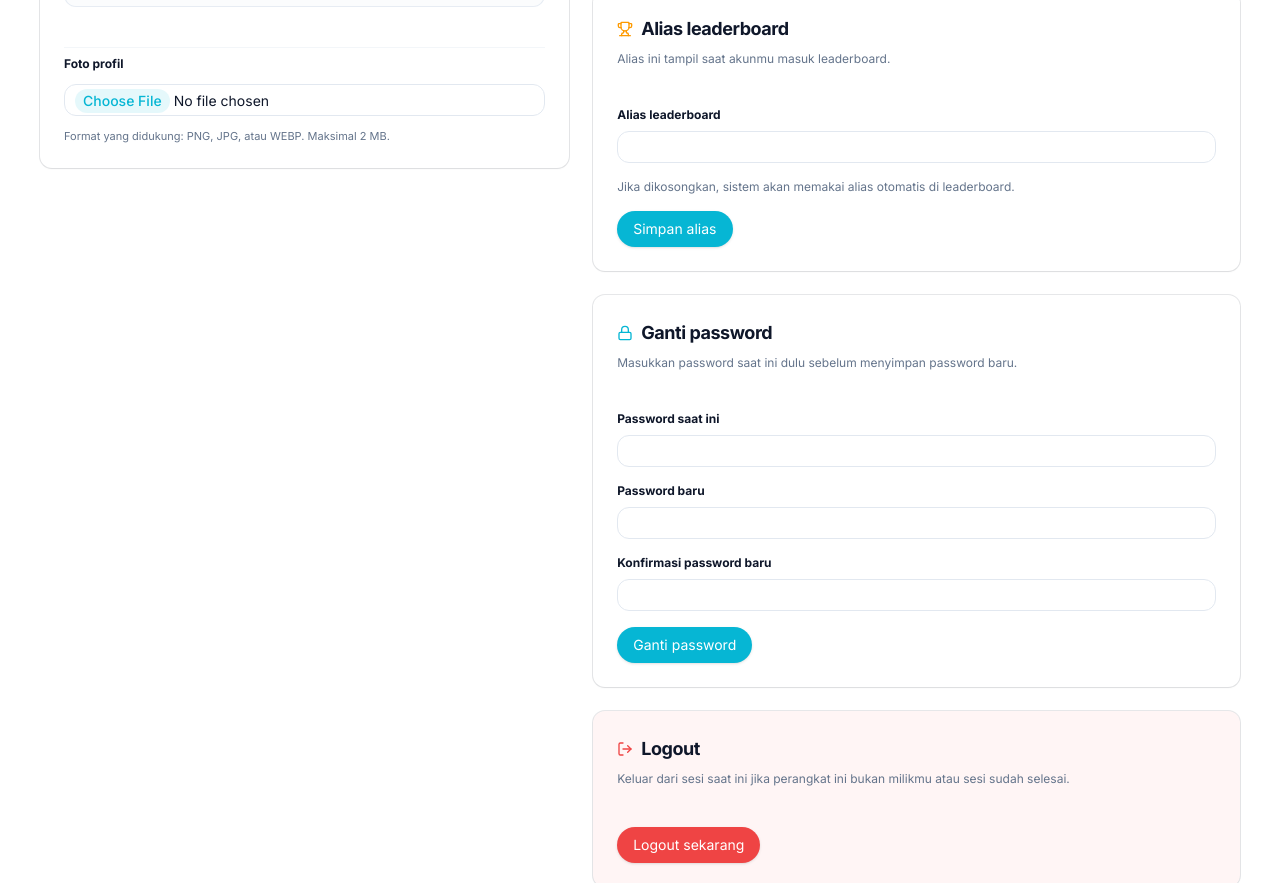
Scenario: ProfilePage › submits a valid password change with TestSprite-visible success copy
The width and height of the screenshot is (1280, 883).
(page scrolled)
Step 1. Type "password-lama" into the password field labelled "Password saat ini" → (917,451), box x1=617 y1=435 x2=1216 y2=467
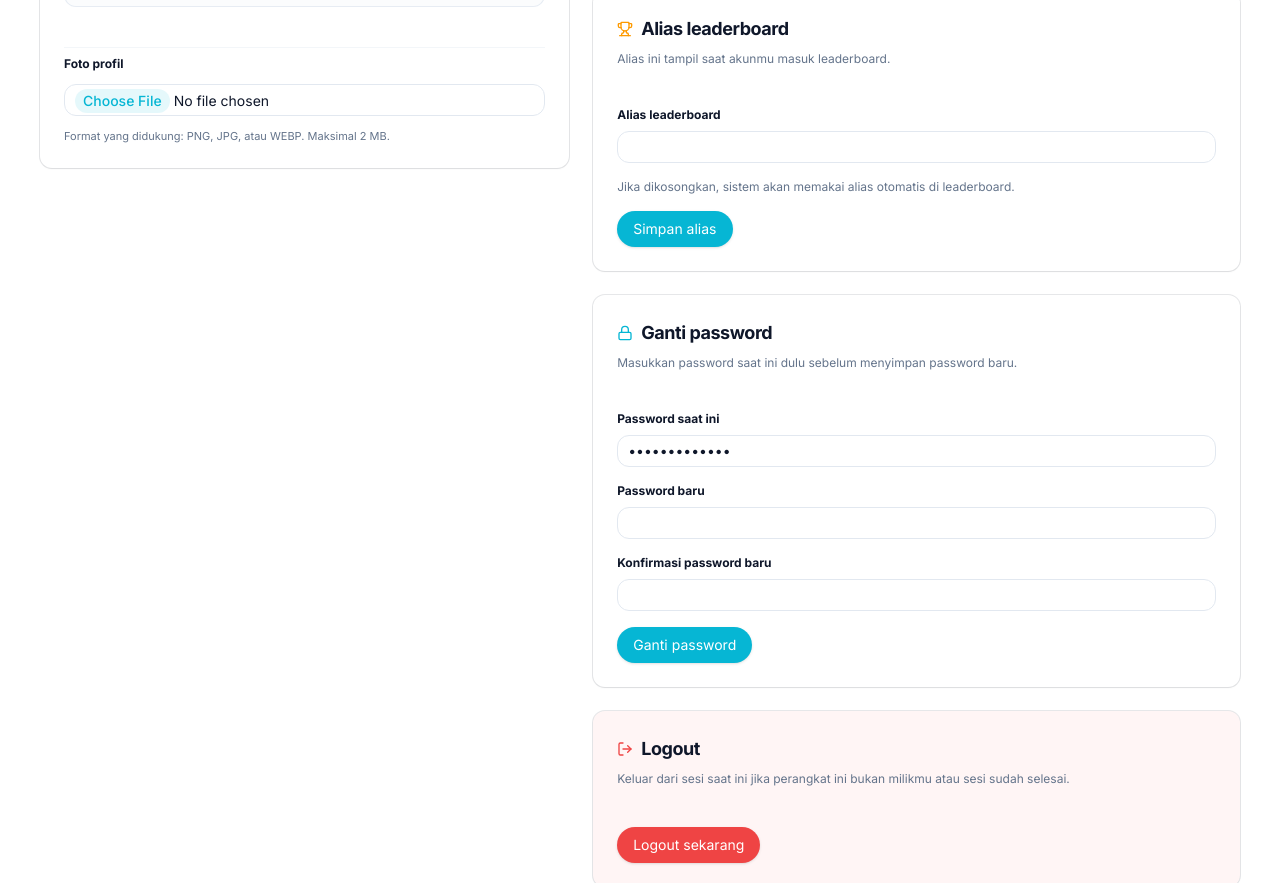
Step 2. Type "password-baru-123" into the password field labelled "Password baru" → (917,523), box x1=617 y1=507 x2=1216 y2=539
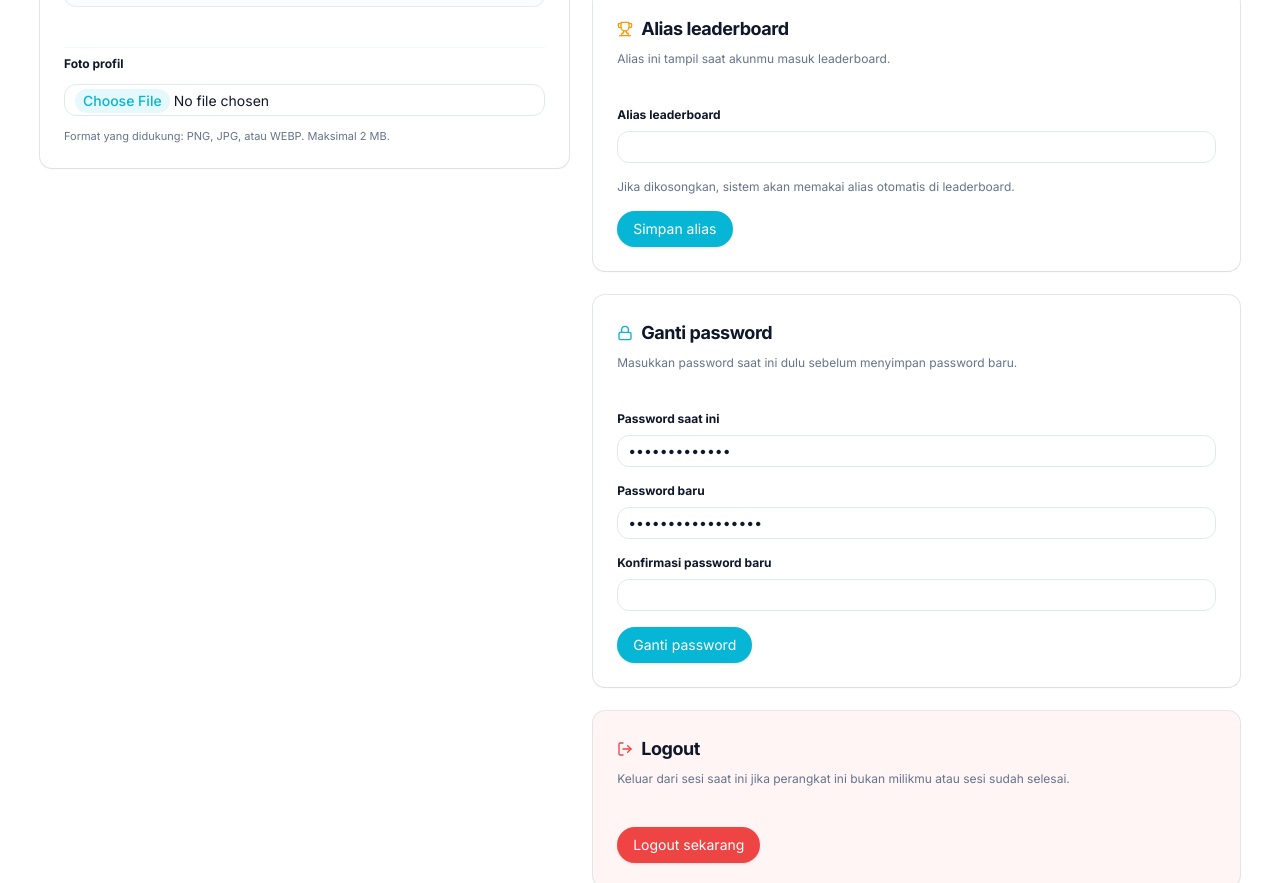
Step 3. Type "password-baru-123" into the password field labelled "Konfirmasi password baru" → (917,595), box x1=617 y1=579 x2=1216 y2=611
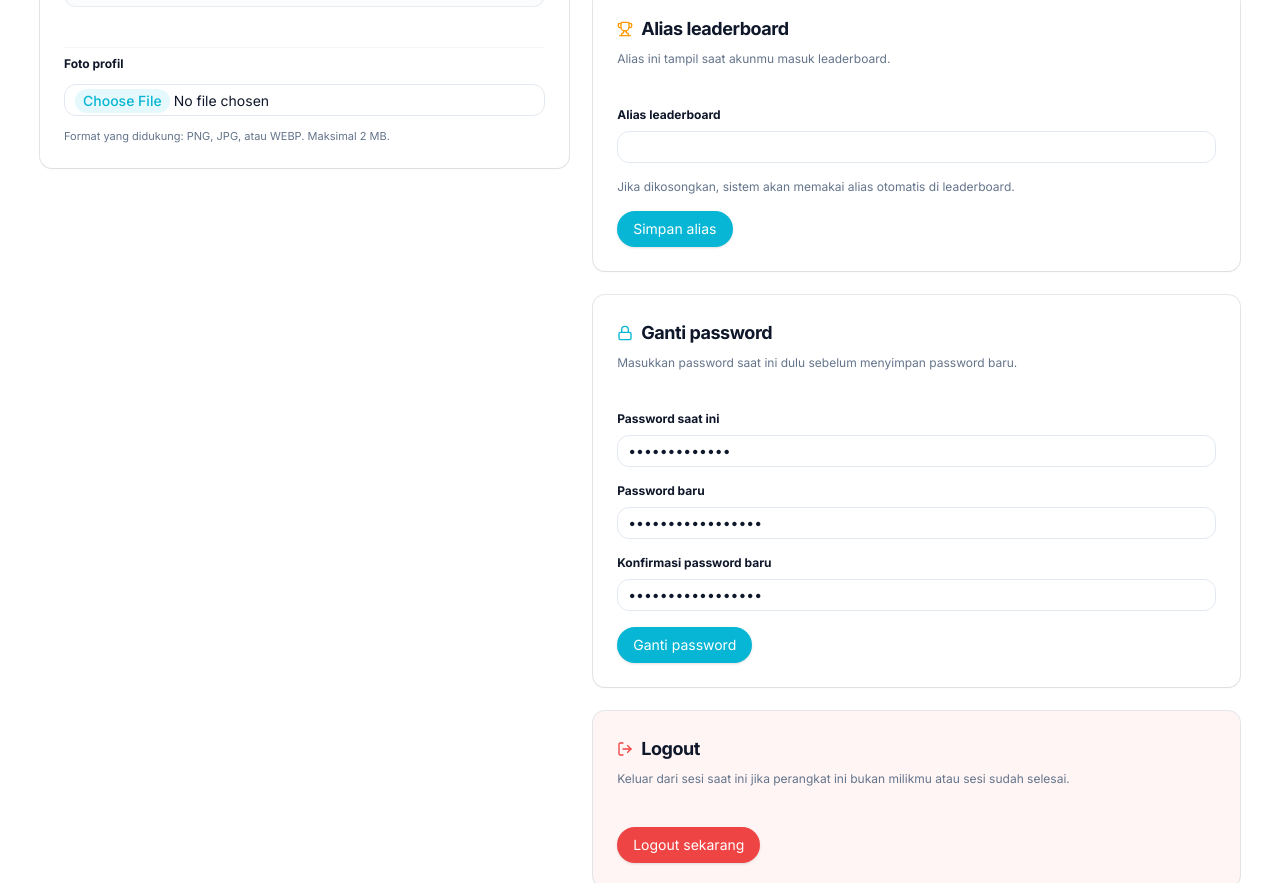
Step 4. Click the button "Ganti password" → (685,645), box x1=617 y1=627 x2=752 y2=663
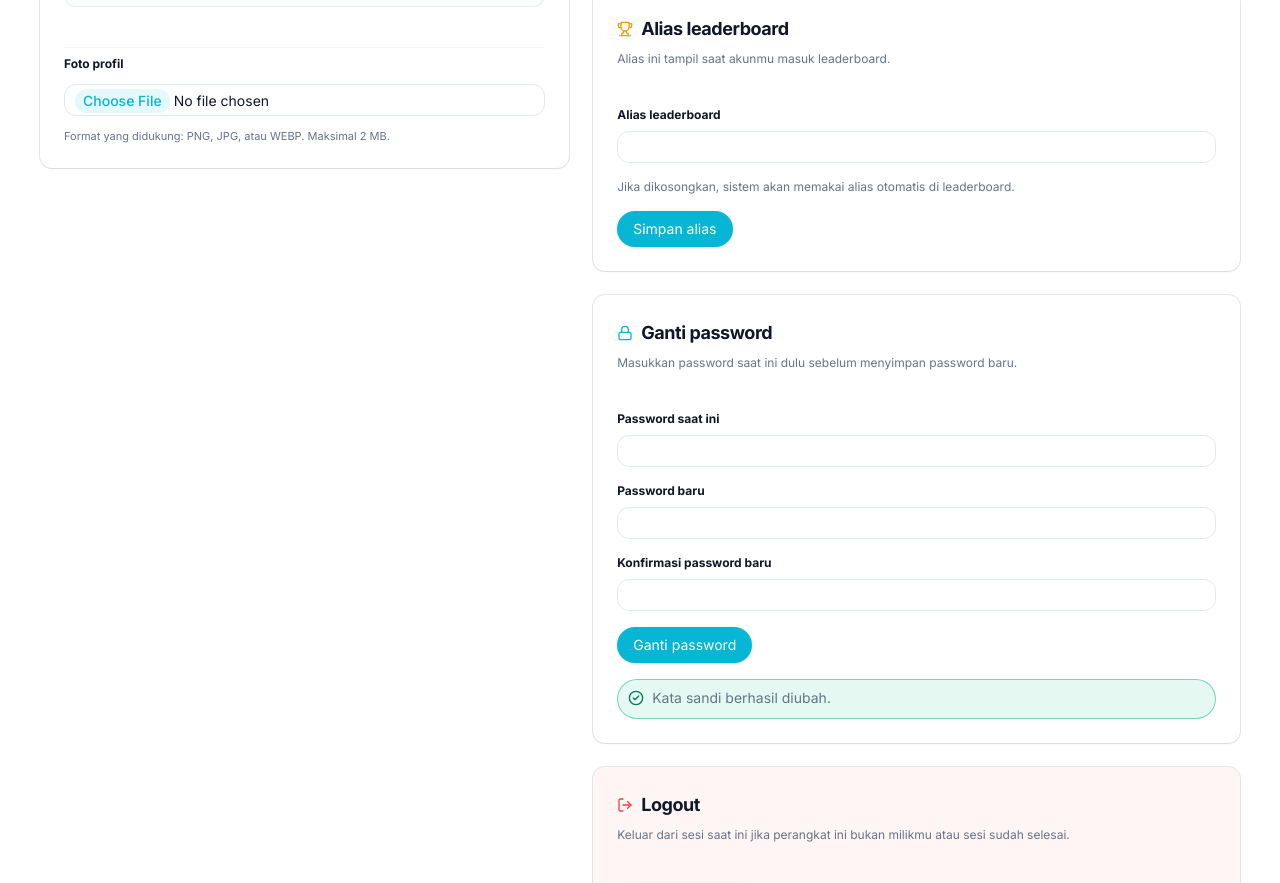
Result: the text "Kata sandi berhasil diubah." is shown at x1=652 y1=689 x2=831 y2=706
